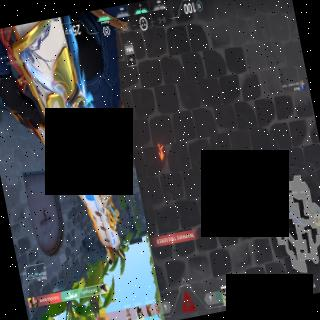ENEMY-BODY: (155, 140, 166, 160)
